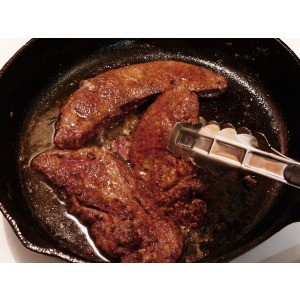liver_brain food: (49, 161, 140, 241), (93, 62, 176, 119)
